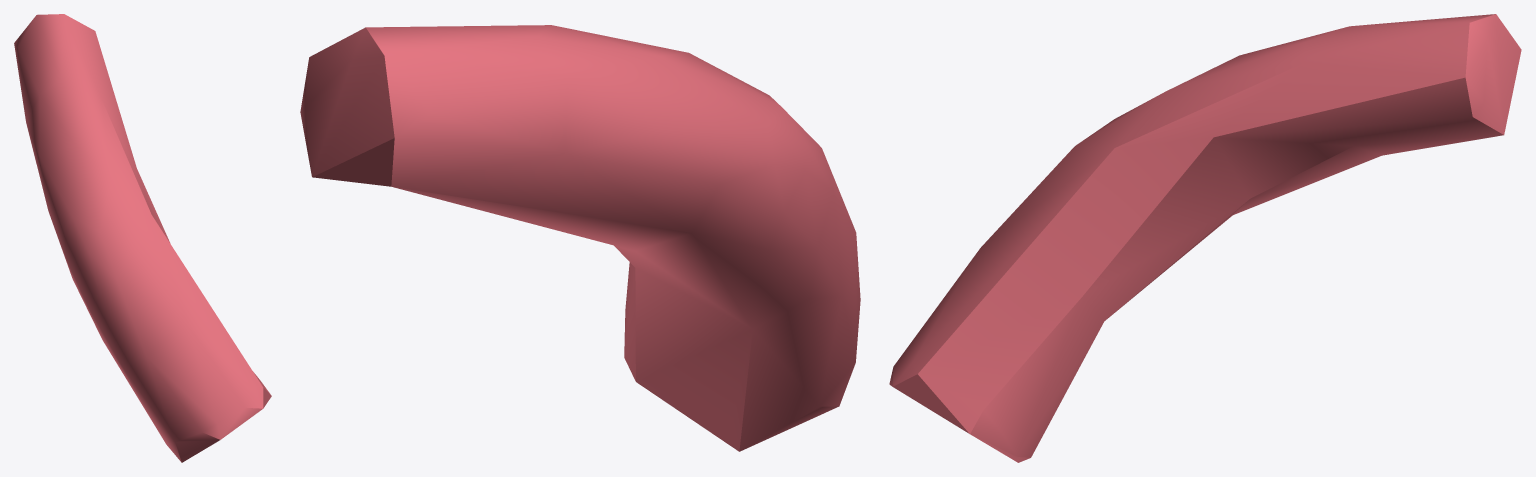
The model's file is fma68670_fj2969.glb.
3 views of the same model, side by side, from view 1: azimuth 30°, elevation 25°; view 2: azimuth 150°, elevation 25°; view 3: azimuth 270°, elevation 25° (orthographic). The views are drawn at different scales.
Visible parts, largest first — view 1: FMA68670_FJ2969; view 2: FMA68670_FJ2969; view 3: FMA68670_FJ2969.
Part boxes in pixels (box(x1,y1,x2,y2)): FMA68670_FJ2969: box(14, 14, 271, 462); FMA68670_FJ2969: box(300, 25, 860, 451); FMA68670_FJ2969: box(889, 14, 1521, 462).
Size of the model in its own units: 0.00339 by 0.00741 by 0.00917.
